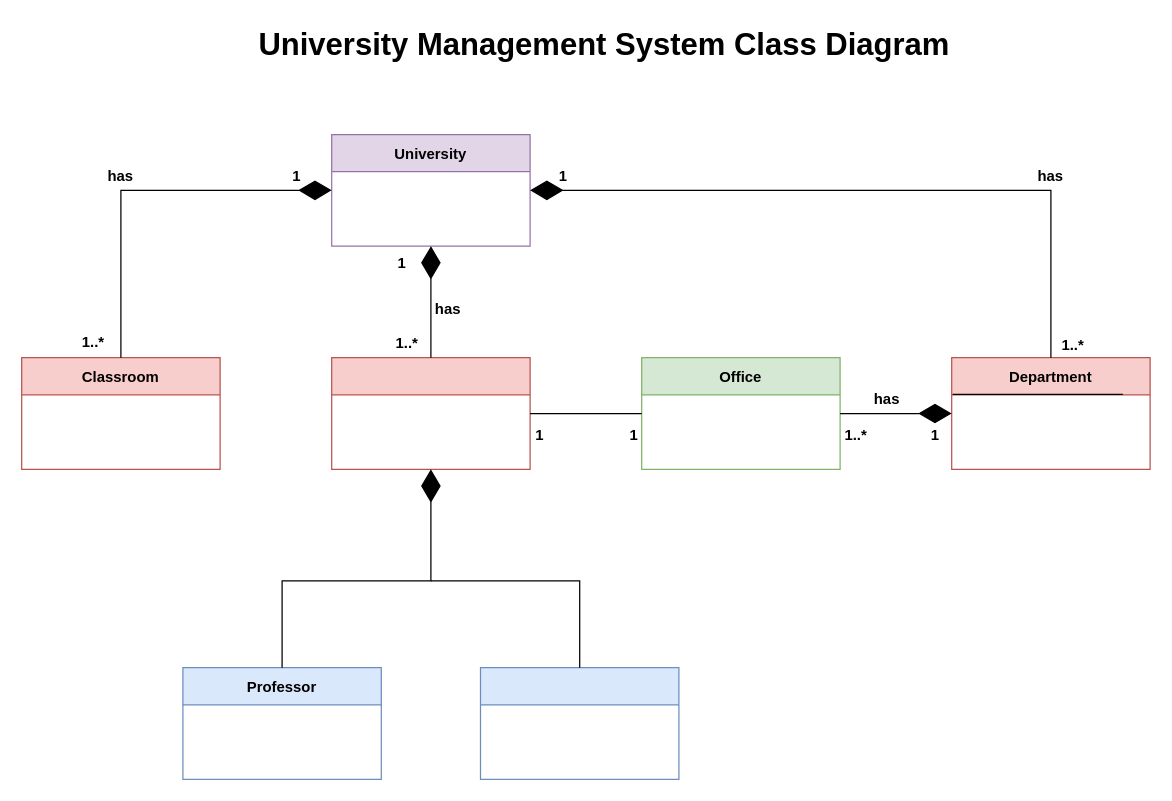
This 1172x801 diagram has some shape labels left out. The shapes that lost their labels are listed below. From the top down, each one's centre as x and y in pixels, then its label:
At point 430,412: "Employee".
At point 579,722: "Officer".
